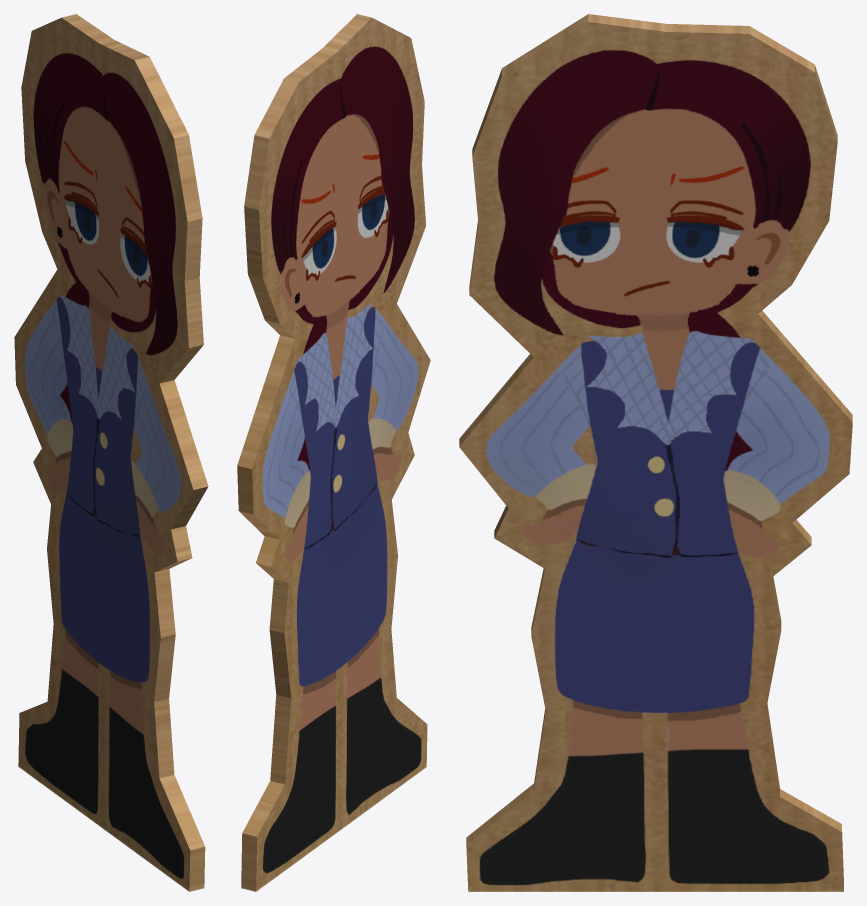
File: NPC_Base_4_CorporateMage.glb
The picture shows the model from 3 angles, left to right: view 1: azimuth 30°, elevation 25°; view 2: azimuth 150°, elevation 25°; view 3: azimuth 270°, elevation 25°; orthographic projection. The views are drawn at different scales.
Visible parts, largest first — view 1: NPC_Base_4_CorporateMage; view 2: NPC_Base_4_CorporateMage; view 3: NPC_Base_4_CorporateMage.
Boxes of the visible parts, x1=… form: NPC_Base_4_CorporateMage: x1=14, y1=14, x2=208, y2=891; NPC_Base_4_CorporateMage: x1=237, y1=14, x2=430, y2=891; NPC_Base_4_CorporateMage: x1=459, y1=14, x2=852, y2=891.
Size of the model in its own units: 0.0407 by 2.05 by 0.8406.
Materials: 1 (1 with a texture image).
